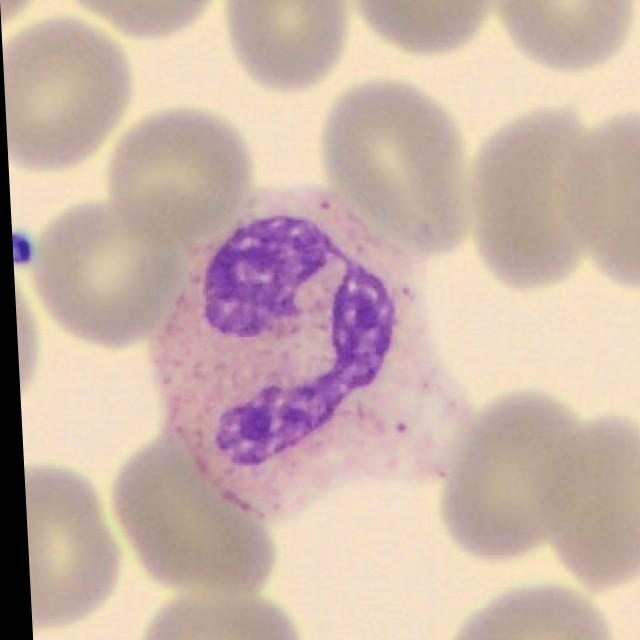Neutrofilo segmentado: (146, 186, 467, 527)
